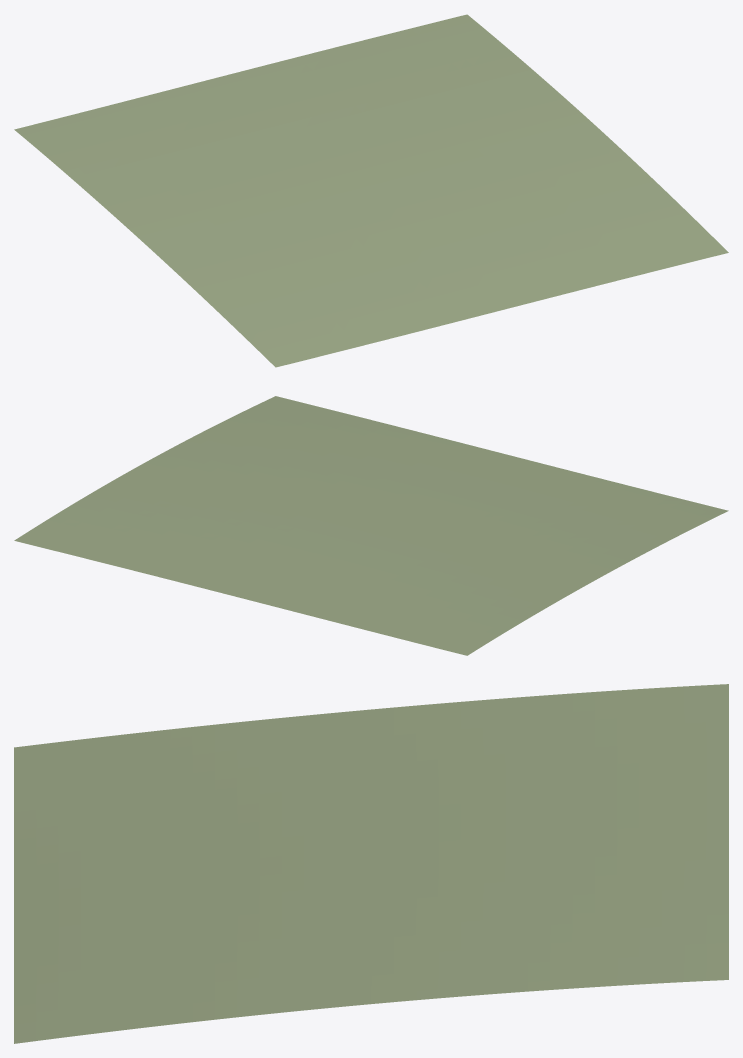
Rendered from desert-30-9.glb.
The picture shows the model from 3 angles, top to bottom: view 1: azimuth 30°, elevation 25°; view 2: azimuth 150°, elevation 25°; view 3: azimuth 270°, elevation 25°; orthographic projection. The views are drawn at different scales.
Parts seen in each view (by area): view 1: desert-30-9; view 2: desert-30-9; view 3: desert-30-9.
Boxes of the visible parts, box(x1,y1,x2,y2) form: desert-30-9: box(14, 14, 728, 367); desert-30-9: box(14, 396, 728, 655); desert-30-9: box(14, 684, 728, 1043).
Size of the model in its own units: 512 by 55.09 by 512.
